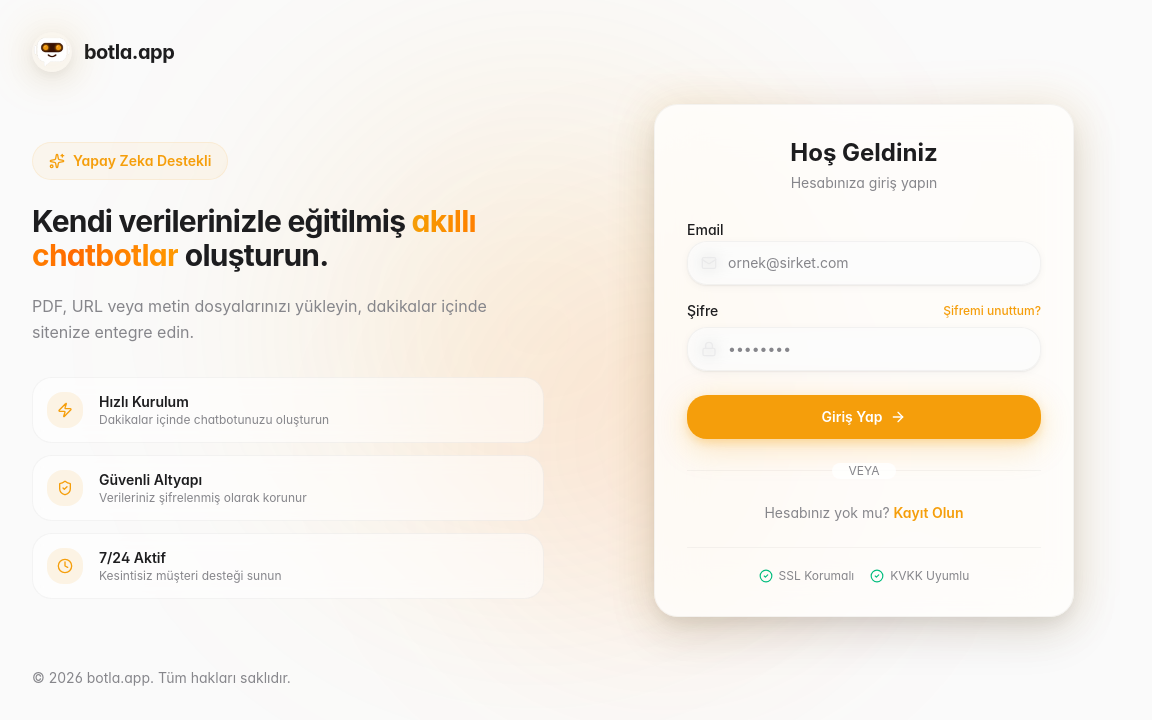
it: LoginPage extra tests › shows error toast when login fails
Type "e@e.com" into the field labelled "Email" at (864, 262), box [687, 240, 1041, 284]
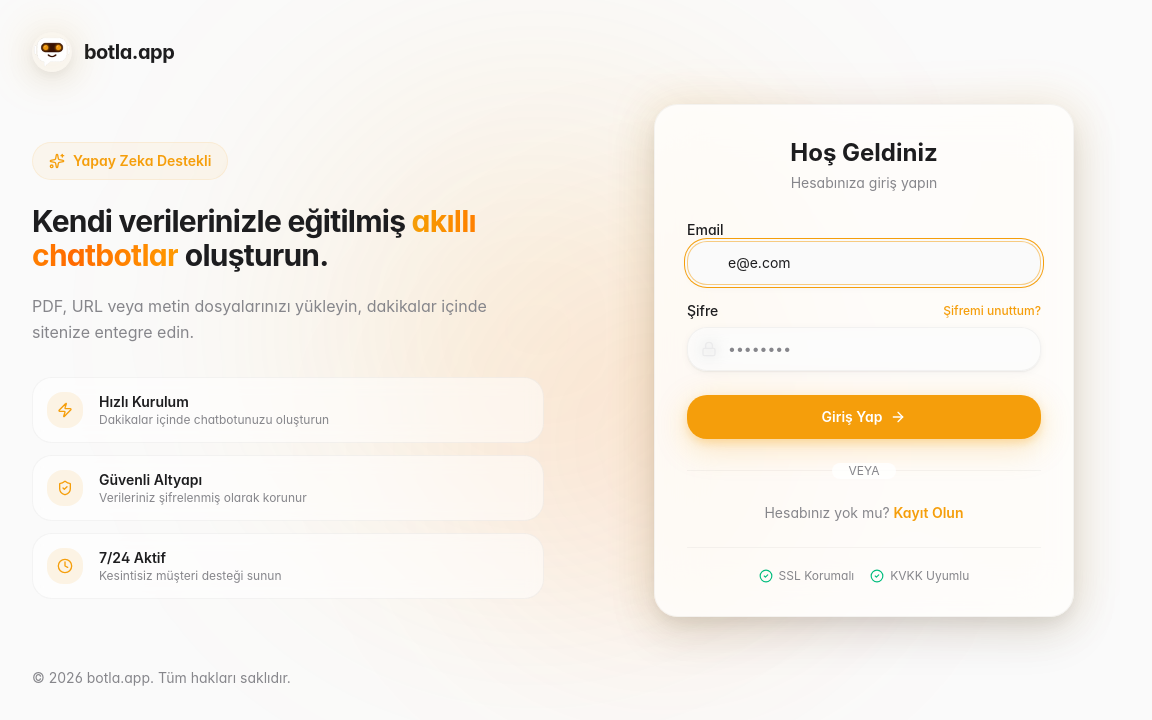
Type "p" into the password field labelled "Şifre" at (864, 348), box [687, 326, 1041, 370]
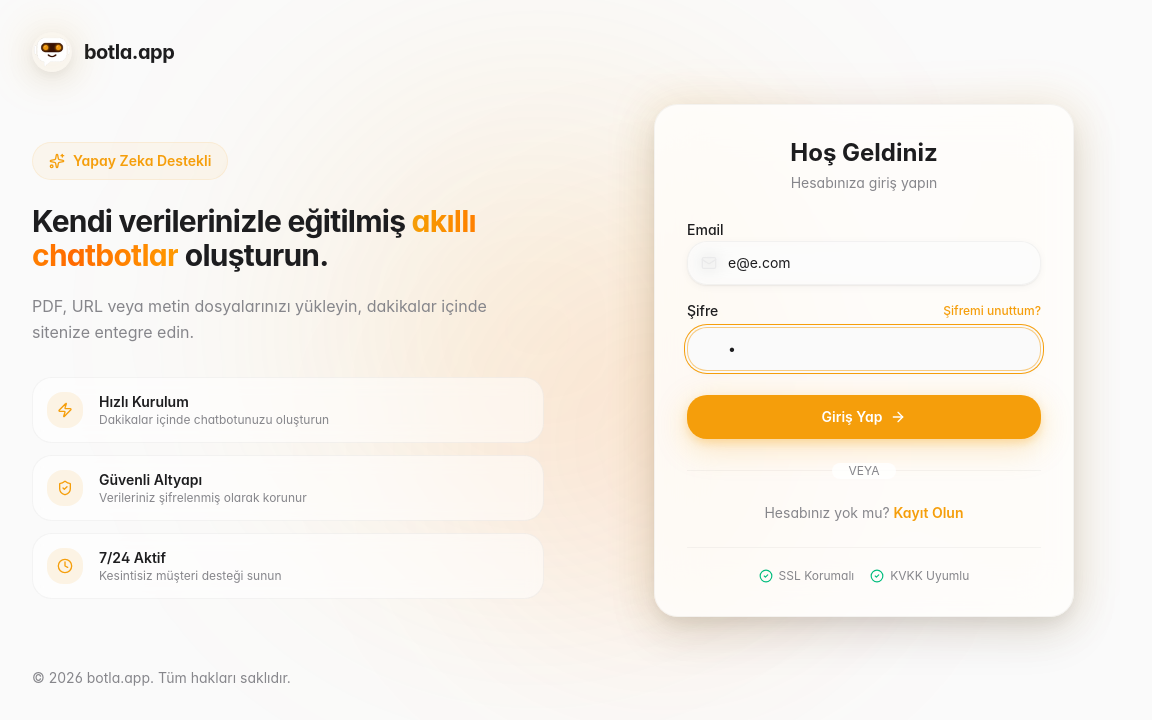
Click the button "Giriş Yap" at (864, 416), box [687, 394, 1041, 438]
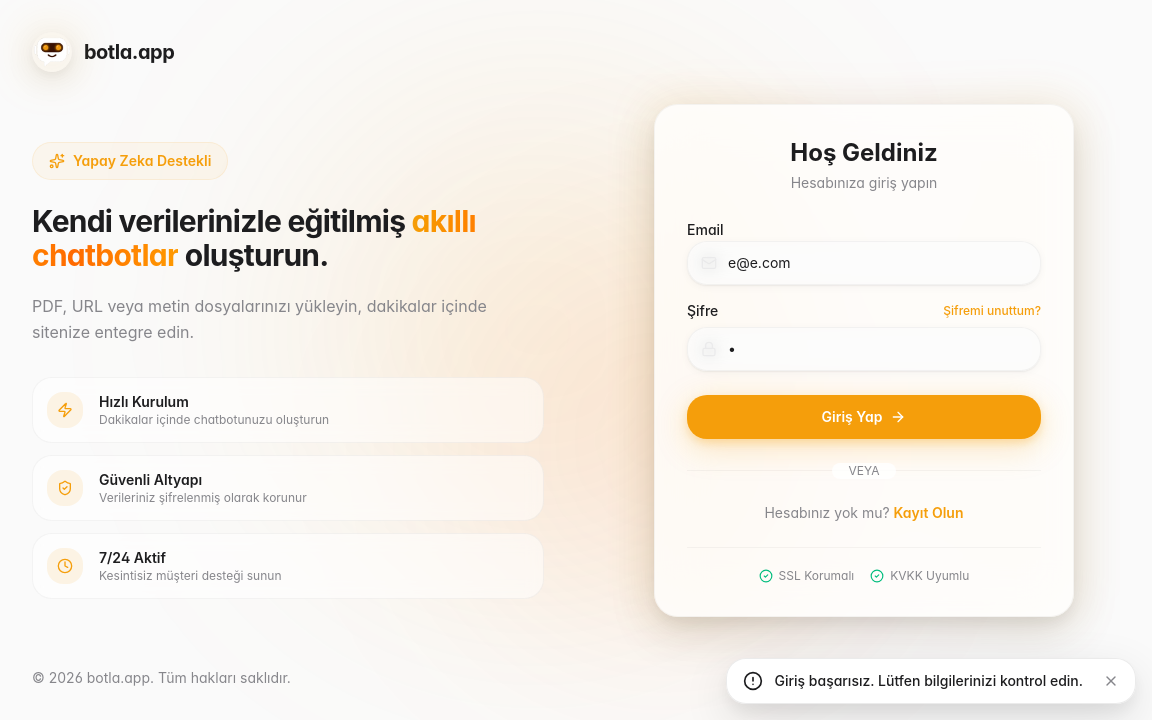
Expected: the text "Giriş başarısız. Lütfen bilgilerinizi kontrol edin." is shown, [774, 671, 1083, 691]
